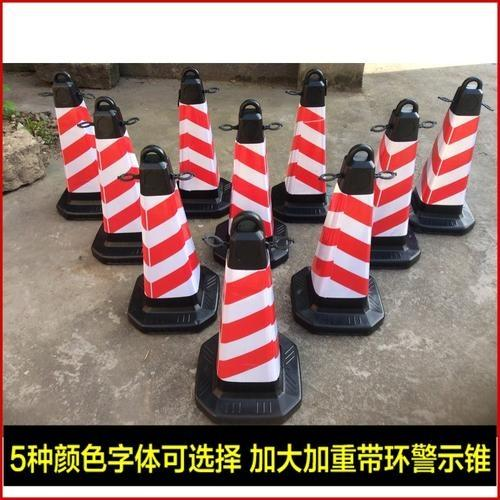cone_barrel: (197, 196, 296, 415), (123, 115, 212, 331), (298, 143, 377, 313), (409, 73, 487, 230), (222, 101, 282, 263), (87, 93, 144, 262), (367, 99, 424, 252), (45, 72, 103, 219), (277, 71, 333, 213), (171, 67, 223, 198)
